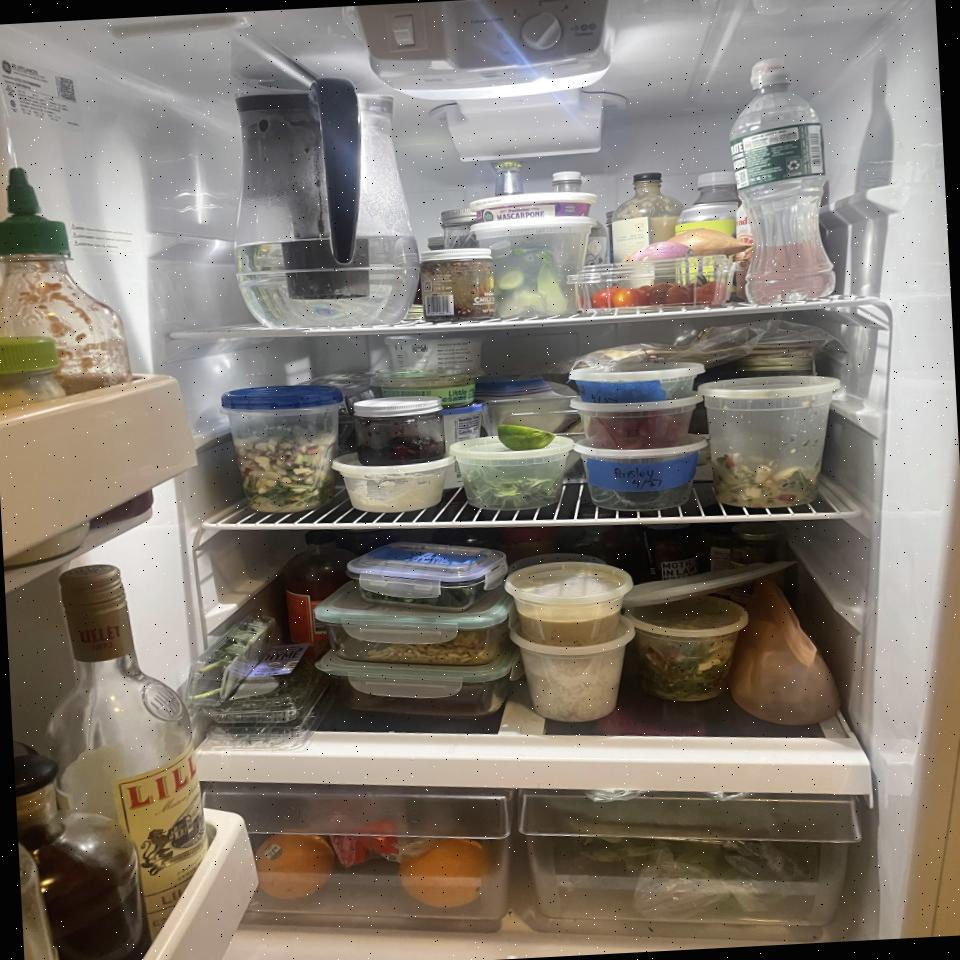Tomate: (591, 280, 728, 314)
